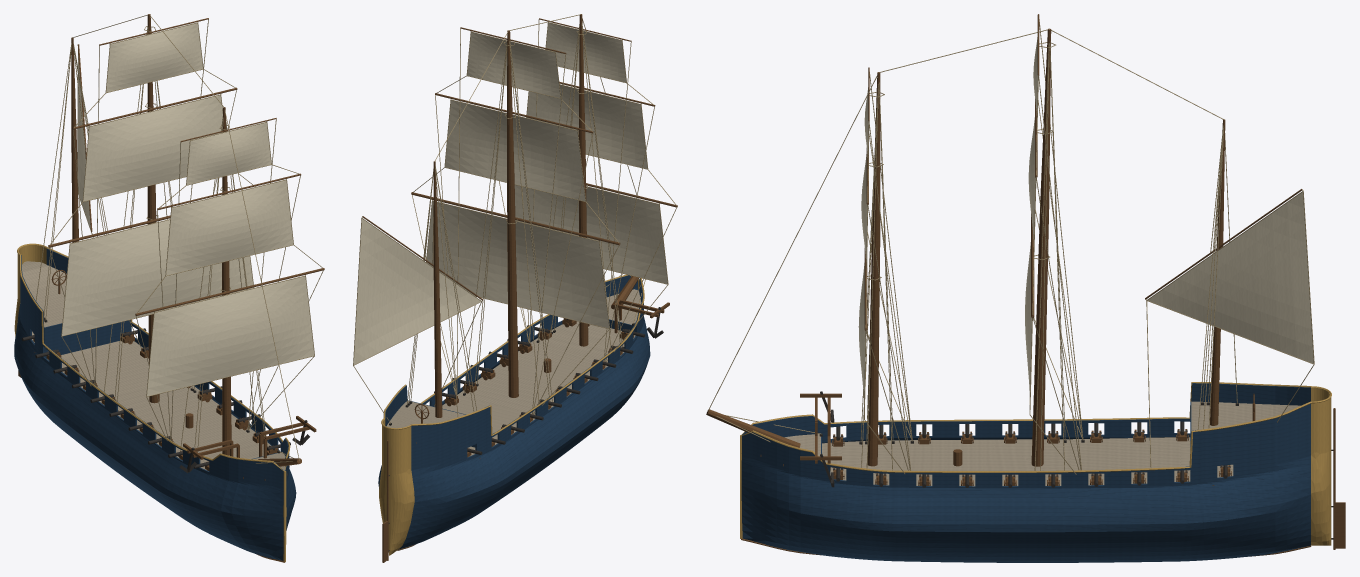
The picture shows the model from 3 angles, left to right: view 1: azimuth 30°, elevation 25°; view 2: azimuth 150°, elevation 25°; view 3: azimuth 270°, elevation 25°; orthographic projection. The views are drawn at different scales.
Parts seen in each view (by area): view 1: lod2_hull_shell_starboard, lod2_fore_square_00, lod2_main_square_00, lod2_main_square_01, lod2_main_deck, lod2_fore_square_01, lod2_main_square_02, lod2_fore_square_02, lod2_hull_shell_port, lod2_castle_deck_0, lod2_castle_bulkhead_0_1, lod2_mizzen (+9 smaller); view 2: lod2_hull_shell_starboard, lod2_main_square_00, lod2_mizzen_lateen_00, lod2_main_square_01, lod2_fore_square_00, lod2_main_deck, lod2_fore_square_01, lod2_main_square_02, lod2_stern_closure, lod2_main, lod2_fore_square_02, lod2_hull_shell_port (+16 smaller); view 3: lod2_hull_shell_port, lod2_mizzen_lateen_00, lod2_main_deck, lod2_hull_shell_starboard, lod2_main, lod2_stern_closure, lod2_fore, lod2_castle_deck_0, lod2_gunwale_port, lod2_mizzen, lod2_gunwale_starboard.
Part boxes in pixels (left/top/right/bottom): lod2_hull_shell_starboard: left=14, top=255, right=283, bottom=560; lod2_fore_square_00: left=147, top=276, right=314, bottom=396; lod2_main_square_00: left=62, top=220, right=253, bottom=335; lod2_main_square_01: left=83, top=95, right=222, bottom=201; lod2_main_deck: left=32, top=331, right=270, bottom=470; lod2_fore_square_01: left=166, top=180, right=293, bottom=275; lod2_main_square_02: left=106, top=23, right=202, bottom=92; lod2_fore_square_02: left=186, top=122, right=271, bottom=184; lod2_hull_shell_port: left=46, top=248, right=296, bottom=530; lod2_castle_deck_0: left=22, top=261, right=66, bottom=327; lod2_castle_bulkhead_0_1: left=44, top=320, right=129, bottom=357; lod2_mizzen: left=71, top=37, right=78, bottom=242; lod2_hull_shell_starboard: left=398, top=278, right=650, bottom=549; lod2_main_square_00: left=426, top=201, right=609, bottom=328; lod2_mizzen_lateen_00: left=353, top=219, right=480, bottom=364; lod2_main_square_01: left=445, top=100, right=585, bottom=201; lod2_fore_square_00: left=514, top=185, right=667, bottom=283; lod2_main_deck: left=442, top=321, right=635, bottom=456; lod2_fore_square_01: left=527, top=85, right=647, bottom=168; lod2_main_square_02: left=467, top=32, right=560, bottom=98; lod2_stern_closure: left=379, top=419, right=414, bottom=555; lod2_main: left=507, top=30, right=518, bottom=397; lod2_fore_square_02: left=546, top=23, right=626, bottom=82; lod2_hull_shell_port: left=378, top=275, right=637, bottom=488; lod2_hull_shell_port: left=741, top=403, right=1310, bottom=562; lod2_mizzen_lateen_00: left=1148, top=192, right=1313, bottom=363; lod2_main_deck: left=822, top=437, right=1233, bottom=486; lod2_hull_shell_starboard: left=741, top=383, right=1310, bottom=443; lod2_main: left=1031, top=28, right=1051, bottom=466; lod2_stern_closure: left=1311, top=387, right=1331, bottom=545; lod2_fore: left=867, top=72, right=880, bottom=466; lod2_castle_deck_0: left=1191, top=401, right=1300, bottom=430; lod2_gunwale_port: left=741, top=401, right=1311, bottom=472; lod2_mizzen: left=1210, top=119, right=1225, bottom=425; lod2_gunwale_starboard: left=741, top=382, right=1310, bottom=434.
Size of the model in its own units: 17.74 by 36.74 by 39.96.
7 materials, 7 textured.
